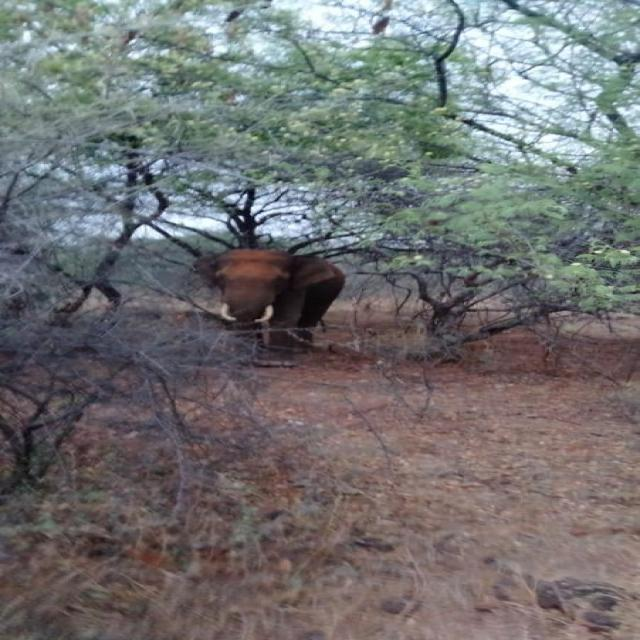Elephant: (196, 247, 343, 367)
